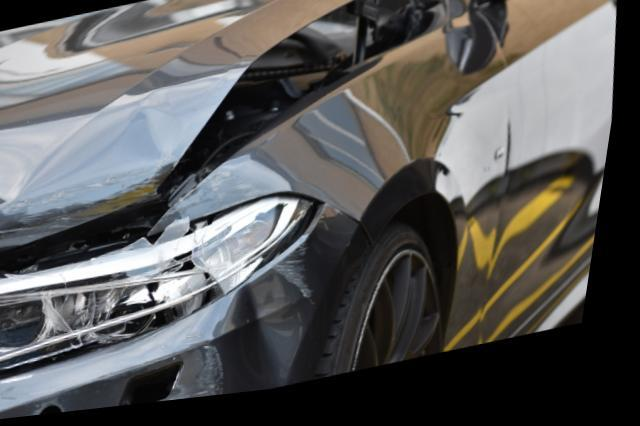dent: (0, 109, 168, 212), (232, 277, 324, 387)
dislocated part: (0, 0, 433, 286)
lamp broken: (0, 203, 326, 378)
no part: (135, 371, 194, 410), (57, 410, 73, 417)
scratch: (0, 159, 184, 252), (176, 172, 277, 224), (173, 353, 235, 407), (279, 248, 316, 297)
